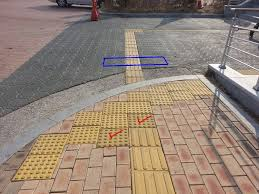guide_blocks: (130, 117, 178, 194), (17, 134, 66, 178), (68, 113, 129, 145), (123, 31, 145, 83), (169, 79, 212, 100), (127, 86, 171, 104), (104, 100, 154, 115), (123, 27, 228, 32)
